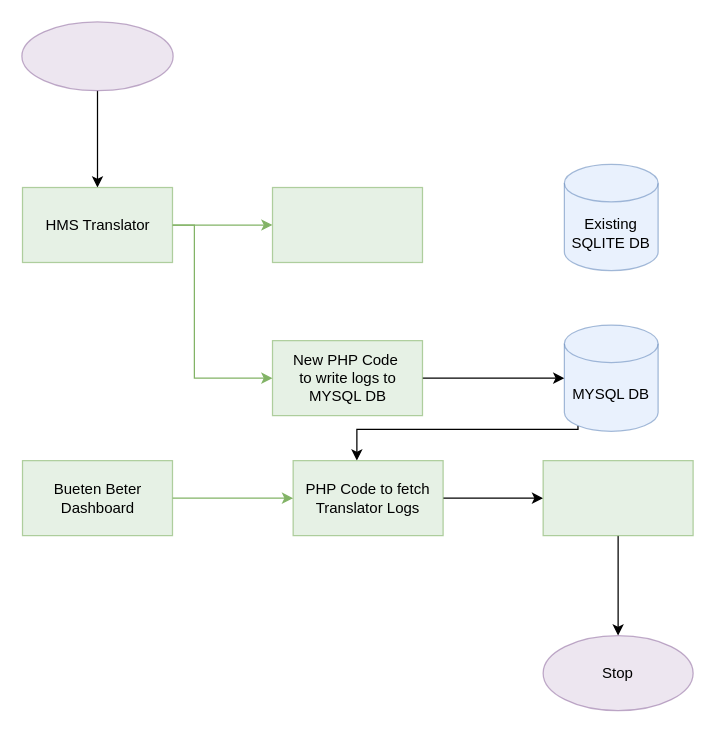
Some shapes in this 715 by 733 pixel diagram are drawn without their labels. Each missing label, with the box of its shape:
Existing Logs in Log Files: (271, 186, 422, 262)
Start: (21, 21, 173, 91)
Translator Log Reports: (542, 459, 693, 536)
